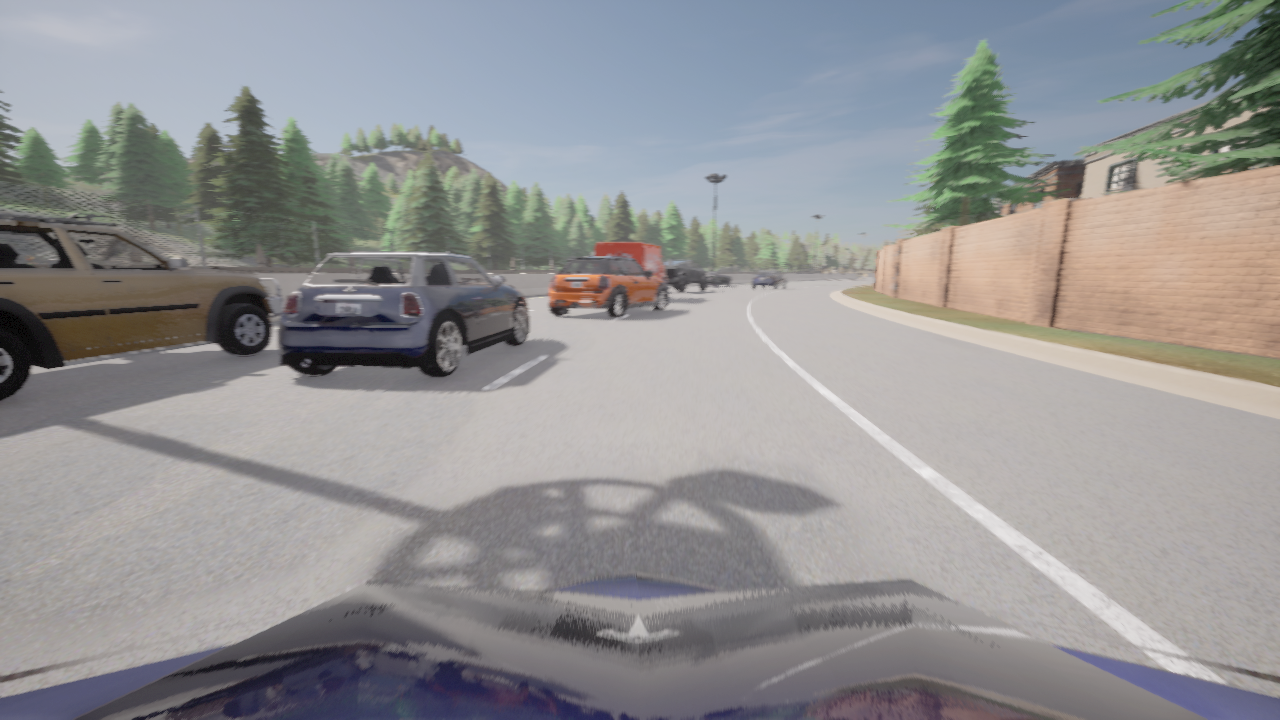cyclist: (0, 569, 1279, 719), (278, 252, 528, 377), (549, 255, 667, 317), (594, 242, 671, 288), (665, 259, 708, 292), (751, 269, 786, 289), (708, 272, 731, 285)
pedestrian: (295, 262, 300, 273)
